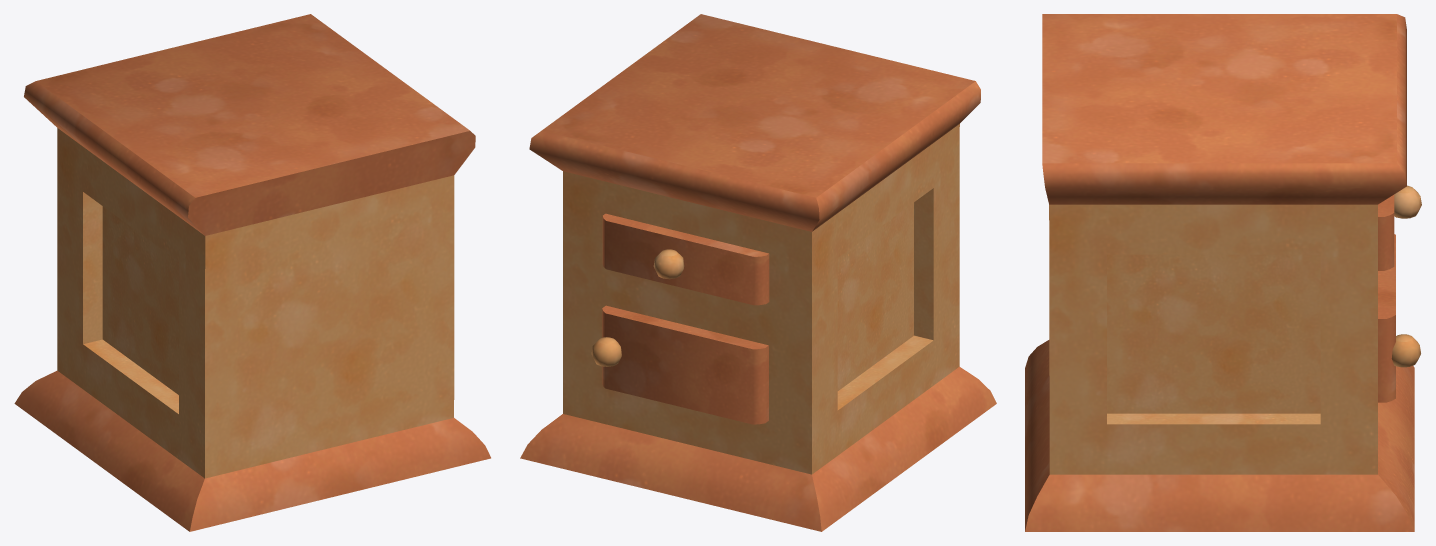
File: SM_Little_Dresser.fbx
3 views of the same model, side by side, from view 1: azimuth 30°, elevation 25°; view 2: azimuth 150°, elevation 25°; view 3: azimuth 270°, elevation 25° (orthographic). The views are drawn at different scales.
Parts seen in each view (by area): view 1: SM_Little_Dresser; view 2: SM_Little_Dresser; view 3: SM_Little_Dresser.
Part boxes in pixels (bbox=[...]): SM_Little_Dresser: bbox=[14, 14, 490, 531]; SM_Little_Dresser: bbox=[520, 14, 996, 531]; SM_Little_Dresser: bbox=[1025, 14, 1421, 531].
Size of the model in its own units: 96.77 by 99.64 by 99.15.
Materials: 1 (1 with a texture image).
